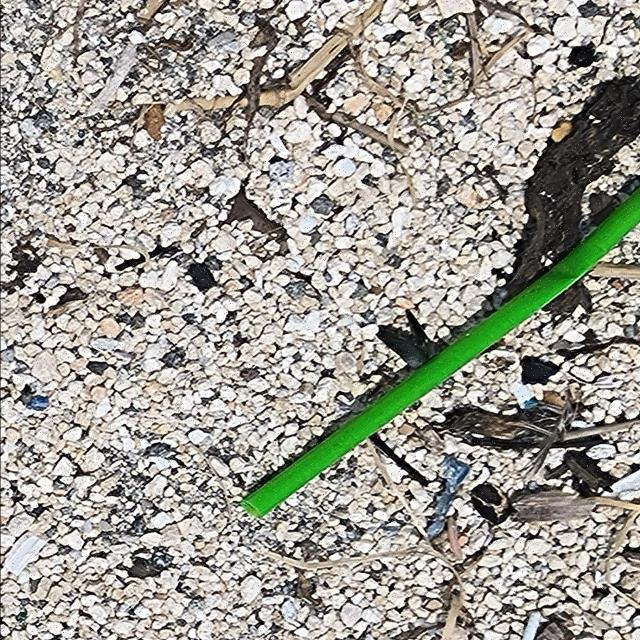plastic_waste: (239, 187, 640, 522)
